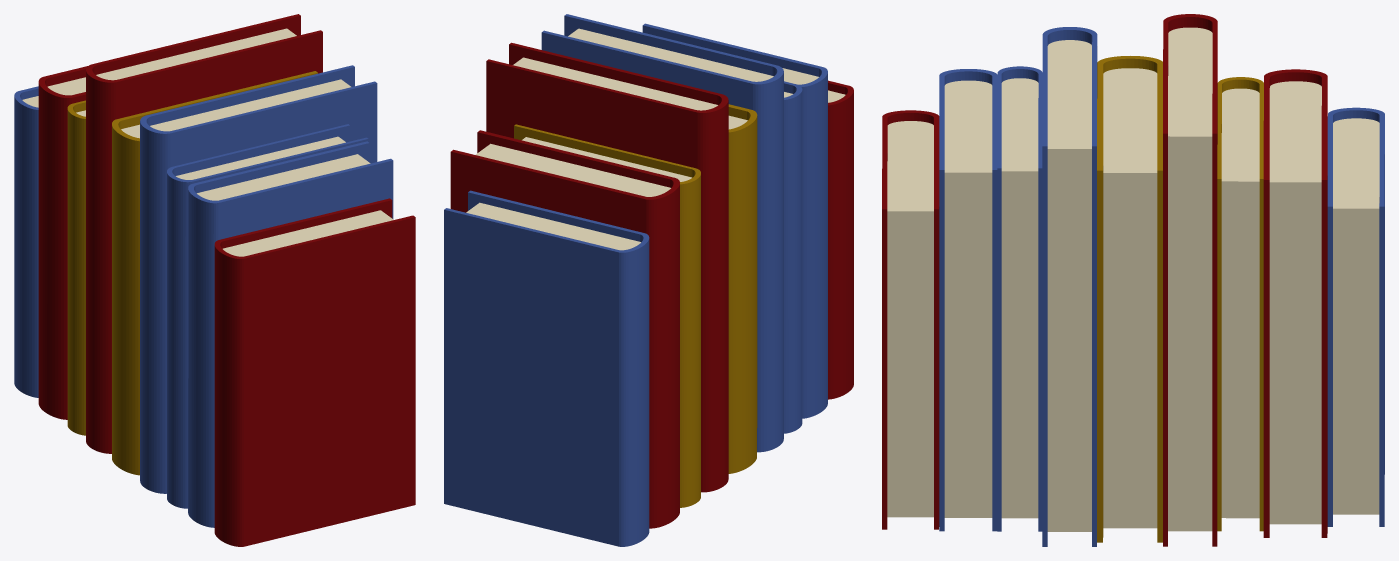
The model's file is Books.fbx.
The picture shows the model from 3 angles, left to right: view 1: azimuth 30°, elevation 25°; view 2: azimuth 150°, elevation 25°; view 3: azimuth 270°, elevation 25°; orthographic projection. The views are drawn at different scales.
Parts seen in each view (by area): view 1: cover.007, cover.001, cover.002, cover.008, pages, cover, cover.005, cover.004, cover.006, cover.003; view 2: cover.006, cover.002, cover.005, cover.001, pages, cover.008, cover, cover.003, cover.007, cover.004; view 3: pages, cover.005, cover, cover.002, cover.001, cover.008, cover.006, cover.007, cover.004, cover.003.
Boxes of the visible parts, x1,y1,x2,y2 form: cover.007: (214, 198, 415, 546); cover.001: (140, 65, 377, 493); cover.002: (86, 14, 322, 453); cover.008: (188, 141, 393, 527); pages: (22, 28, 393, 256); cover: (112, 71, 317, 475); cover.005: (38, 66, 87, 419); cover.004: (167, 124, 368, 508); cover.006: (14, 86, 38, 397); cover.003: (67, 100, 85, 435); cover.006: (444, 190, 649, 546); cover.002: (486, 42, 728, 492); cover.005: (450, 130, 679, 528); cover.001: (541, 14, 783, 452); pages: (466, 28, 845, 250); cover.008: (642, 23, 827, 418); cover: (728, 104, 757, 473); cover.003: (514, 124, 700, 507); cover.007: (828, 80, 853, 399); cover.004: (784, 81, 802, 433); pages: (887, 27, 1379, 531); cover.005: (1263, 69, 1327, 537); cover: (1097, 56, 1162, 542); cover.002: (1163, 14, 1217, 546); cover.001: (1042, 27, 1097, 546); cover.008: (939, 69, 997, 531); cover.006: (1327, 107, 1384, 526); cover.007: (882, 110, 939, 529); cover.004: (997, 66, 1042, 531); cover.003: (1217, 77, 1263, 531).
Bounding box in the file's own units: 208 × 336 × 370.
